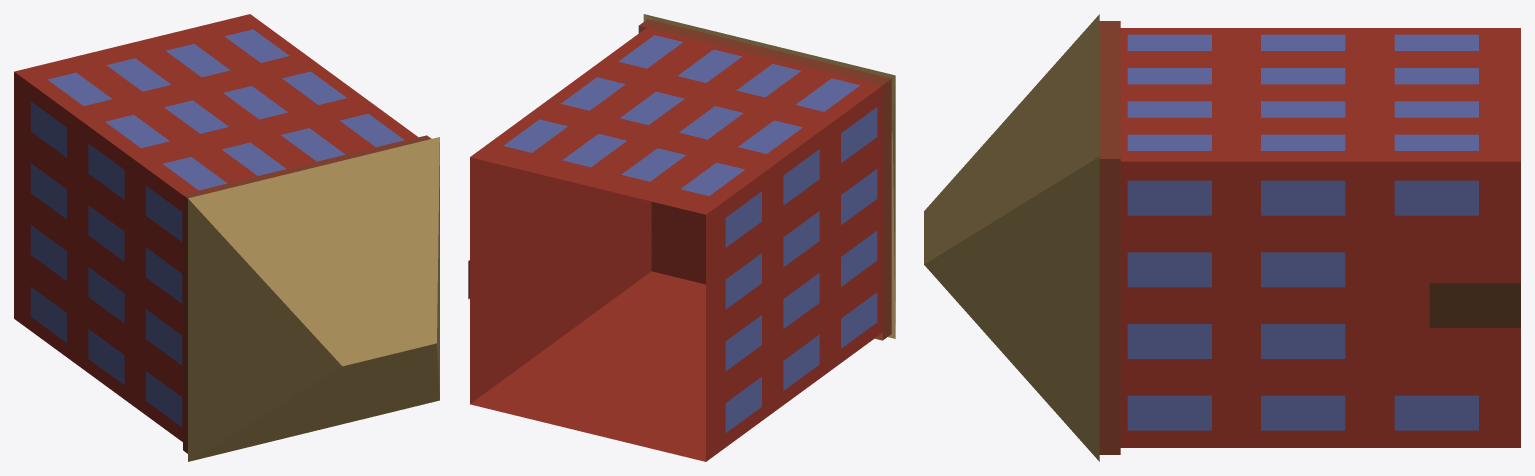
The model's file is construction_2.glb.
3 renders of one model, left to right at view 1: azimuth 30°, elevation 25°; view 2: azimuth 150°, elevation 25°; view 3: azimuth 270°, elevation 25°, orthographic. The views are drawn at different scales.
Visible parts, largest first — view 1: construction_2; view 2: construction_2; view 3: construction_2.
Boxes of the visible parts, x1=… form: construction_2: x1=14, y1=14, x2=439, y2=461; construction_2: x1=468, y1=14, x2=895, y2=461; construction_2: x1=924, y1=14, x2=1520, y2=461.
Bounding box in the file's own units: 9.6 × 9.6 × 17.
